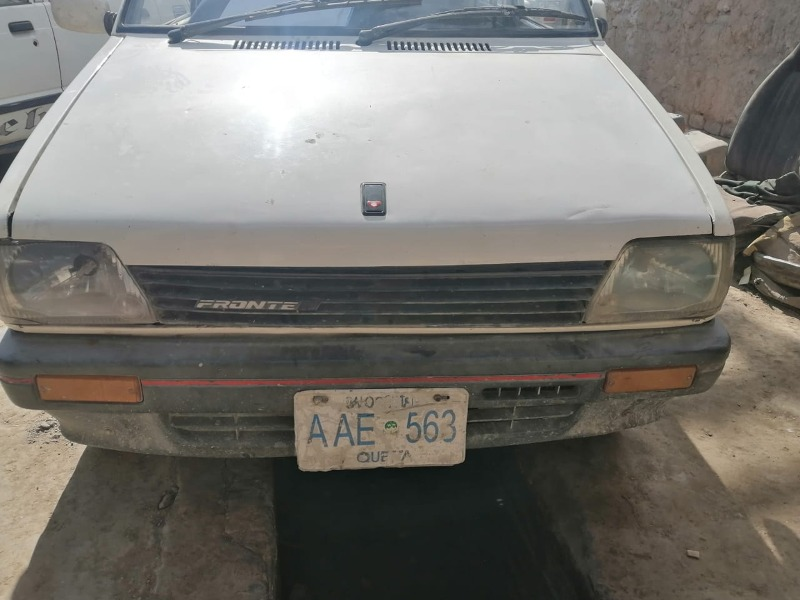License Plate: (289, 384, 471, 478)
